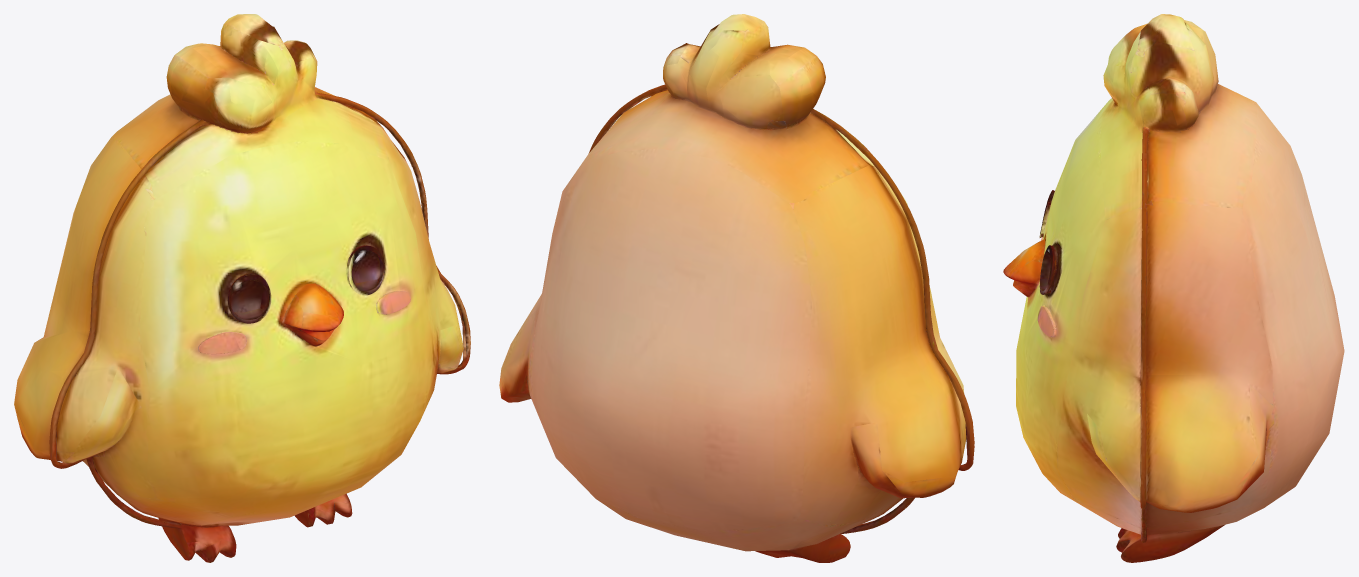
File: chick.glb
3 renders of one model, left to right at view 1: azimuth 30°, elevation 25°; view 2: azimuth 150°, elevation 25°; view 3: azimuth 270°, elevation 25°, orthographic. The views are drawn at different scales.
Parts seen in each view (by area): view 1: model; view 2: model; view 3: model.
Part boxes in pixels (x1=…): model: x1=14, y1=14, x2=470, y2=562; model: x1=499, y1=14, x2=974, y2=562; model: x1=1003, y1=14, x2=1344, y2=562.
Bounding box in the file's own units: 1.61 × 1.9 × 1.13.
1 material, 1 textured.
